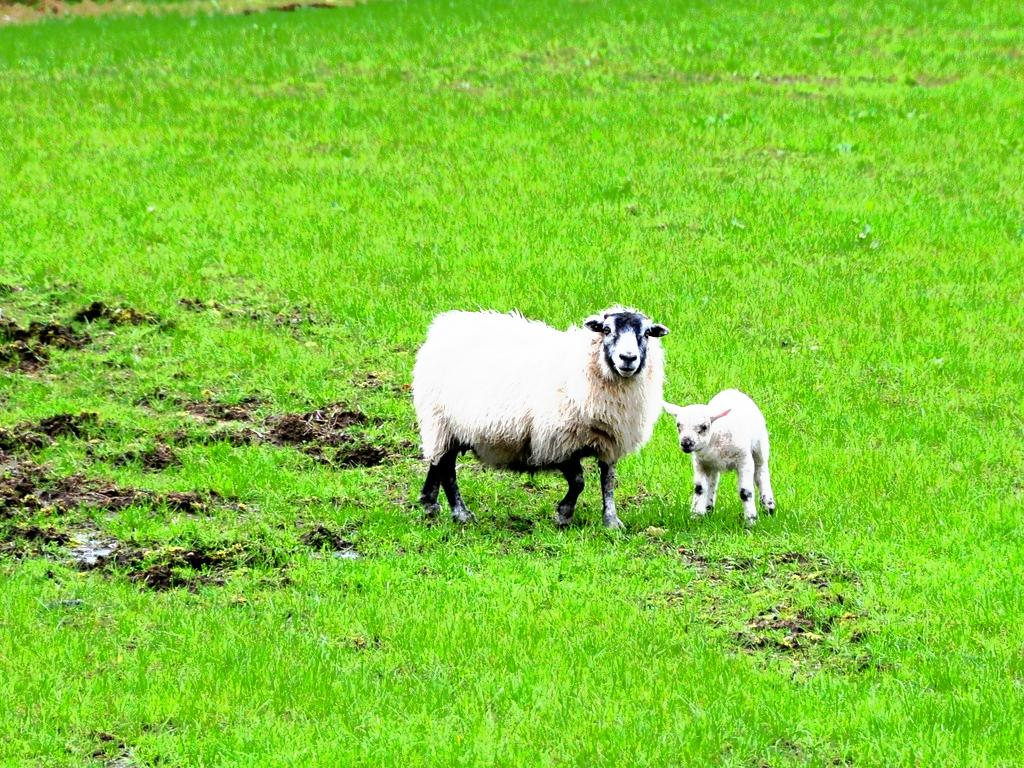Sheep: (412, 300, 668, 538), (664, 388, 773, 530)
